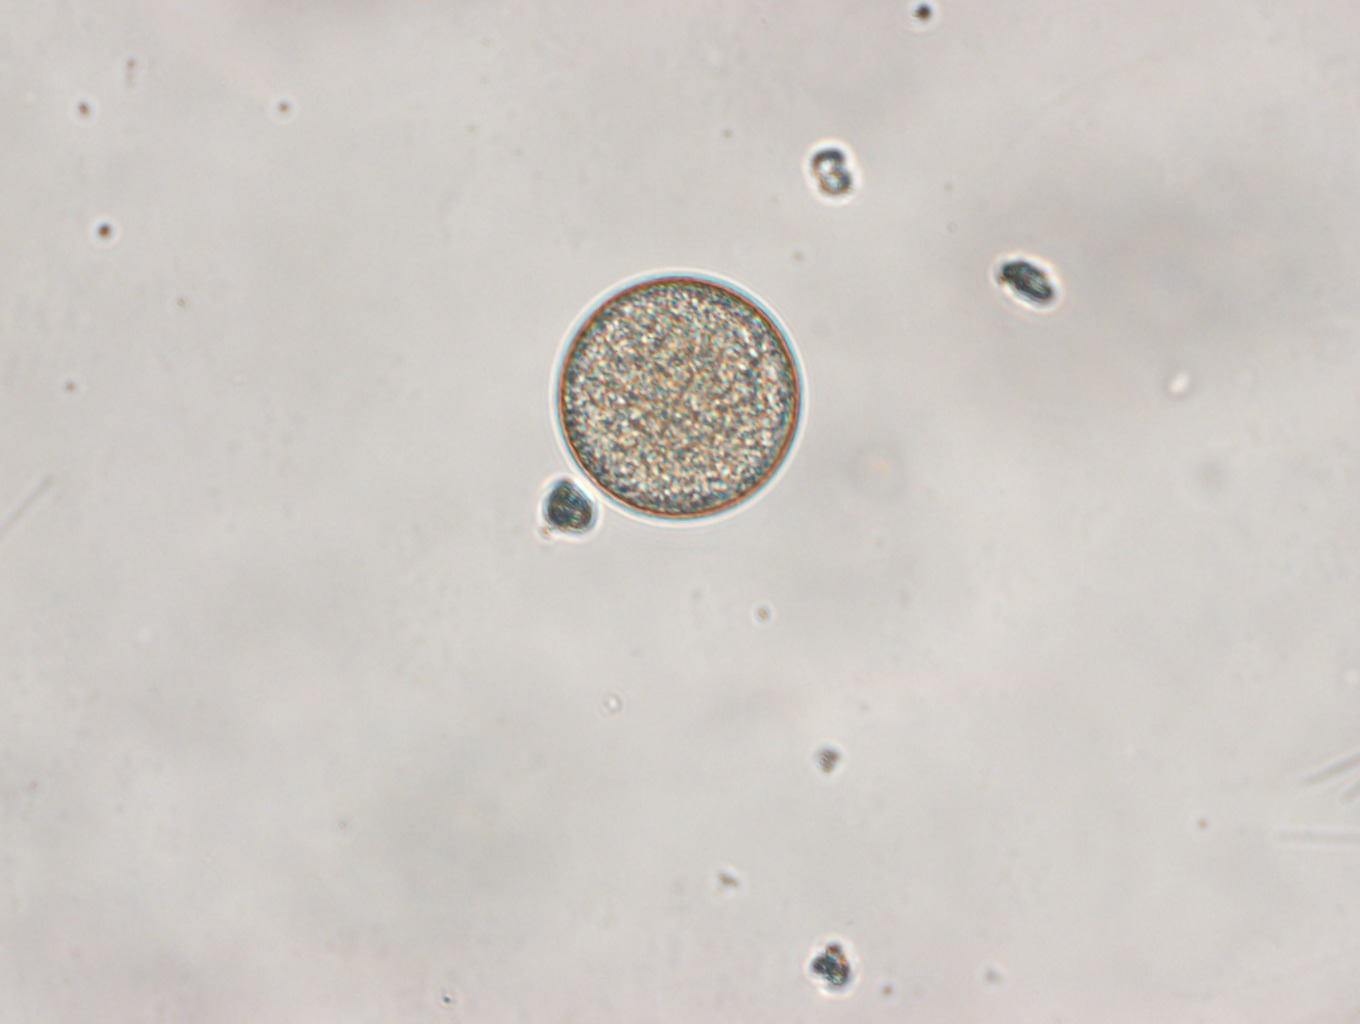coscinodiscus: (549, 268, 807, 527)
